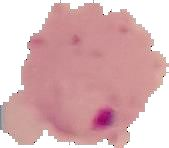parasitized: (39, 73, 130, 136)
